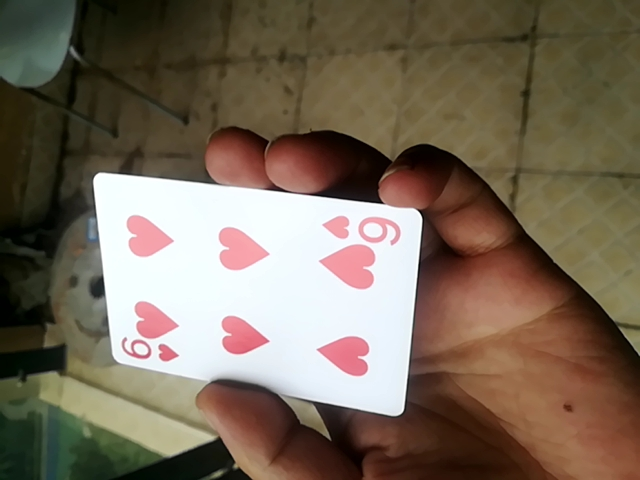hx 6: (86, 163, 426, 416)
